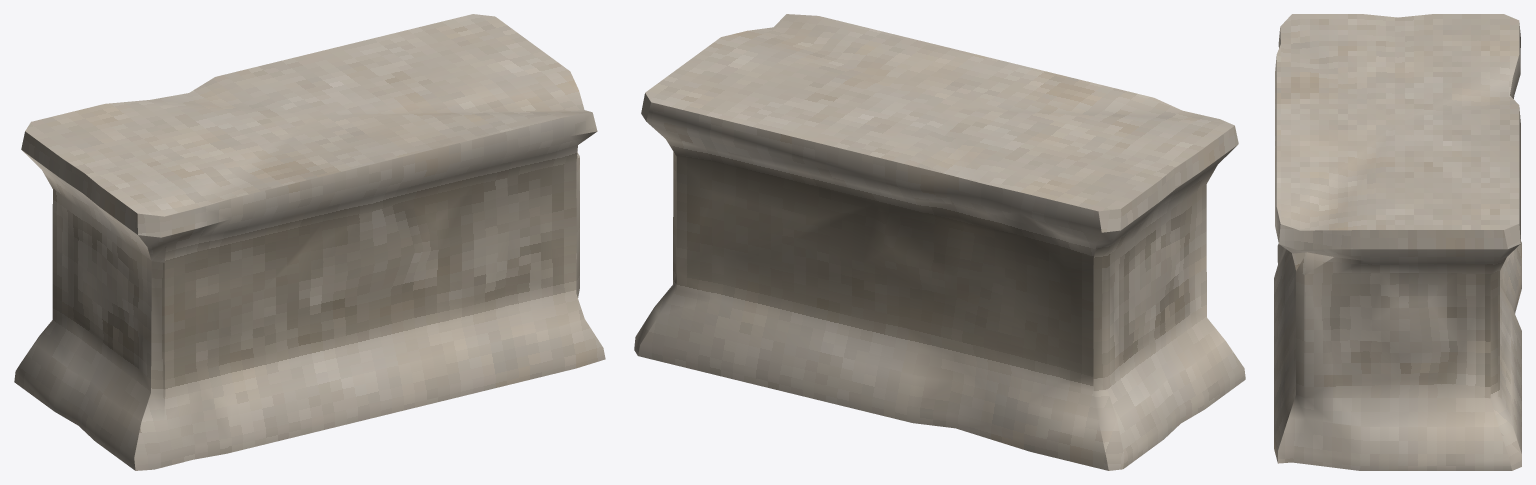
File: pixel-fantasy-carved-weathered-limestone-ritual-altar.glb
The picture shows the model from 3 angles, left to right: view 1: azimuth 30°, elevation 25°; view 2: azimuth 150°, elevation 25°; view 3: azimuth 270°, elevation 25°; orthographic projection. The views are drawn at different scales.
Parts seen in each view (by area): view 1: 02_OPTIMIZED_RUNTIME; view 2: 02_OPTIMIZED_RUNTIME; view 3: 02_OPTIMIZED_RUNTIME.
Boxes of the visible parts, left/top/right/bottom form: 02_OPTIMIZED_RUNTIME: left=14, top=14, right=605, bottom=470; 02_OPTIMIZED_RUNTIME: left=634, top=14, right=1245, bottom=470; 02_OPTIMIZED_RUNTIME: left=1274, top=14, right=1521, bottom=470.
Bounding box in the file's own units: 1.5 × 0.752 × 0.71.
1 material, 1 textured.
